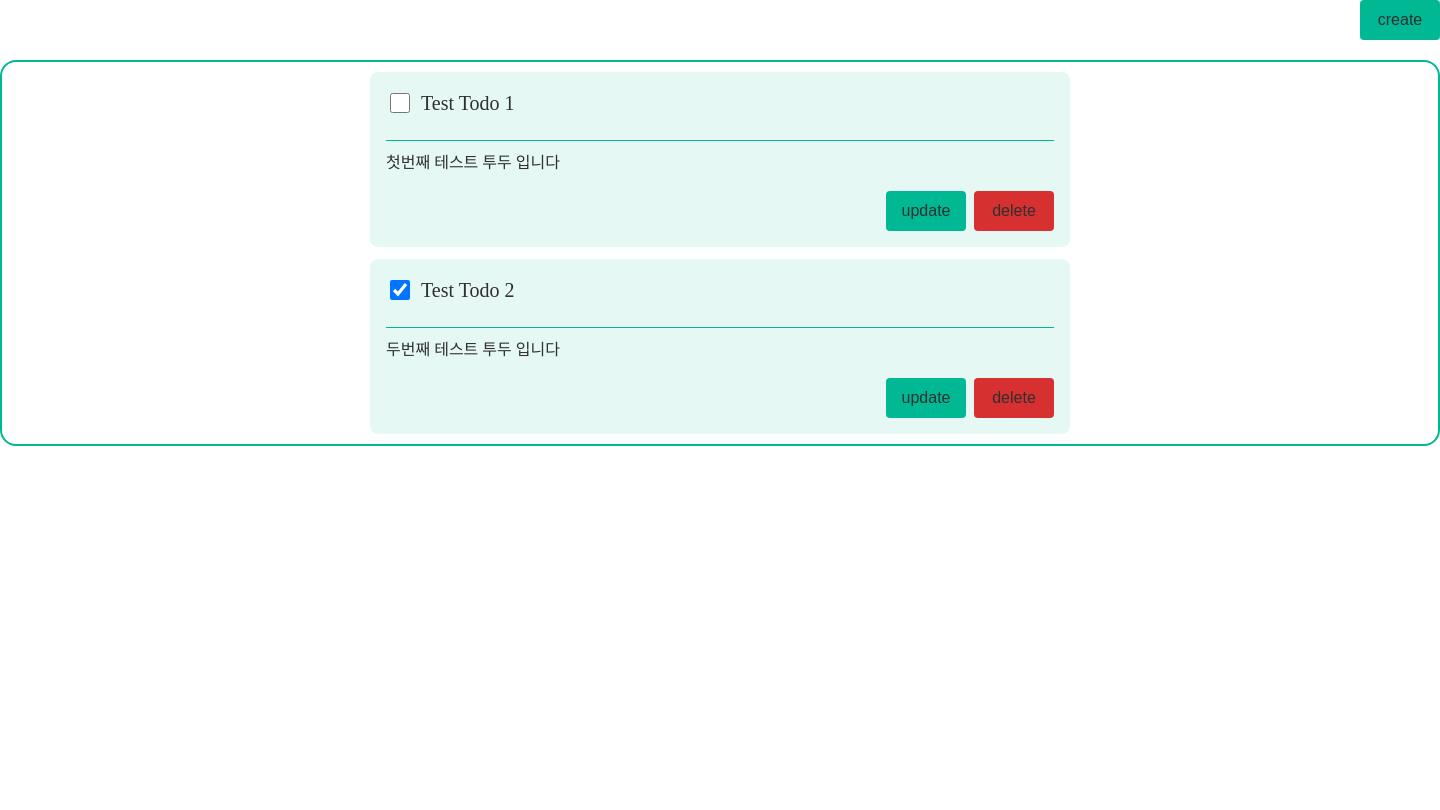
TodoListContent 컴포넌트 › delete 버튼 클릭 시 AlertDialog가 열려야 합니다
Click the 1st button "delete" at (1014, 211), box left=974, top=191, right=1054, bottom=231
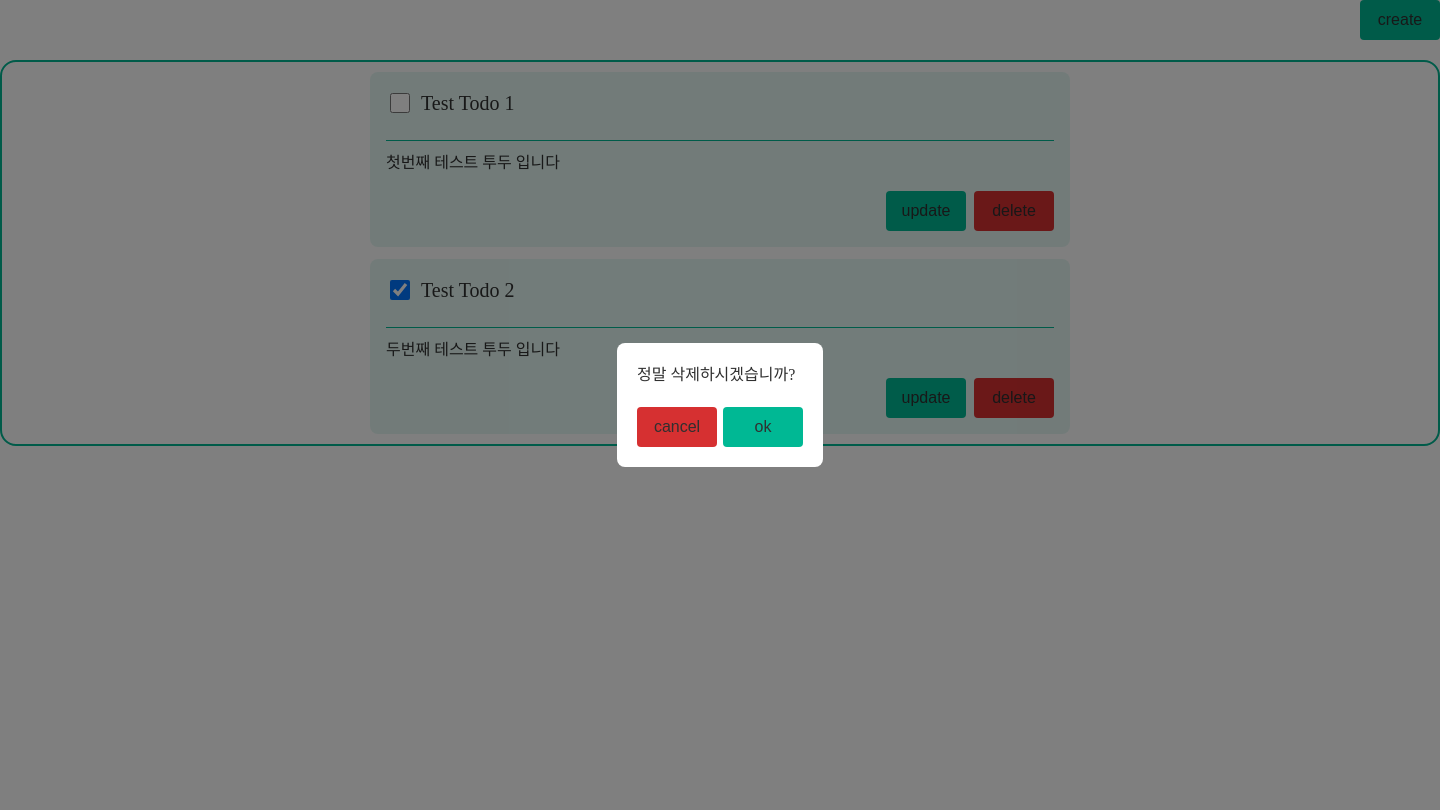
Now the text "정말 삭제하시겠습니까?" is shown, box left=637, top=363, right=803, bottom=387
